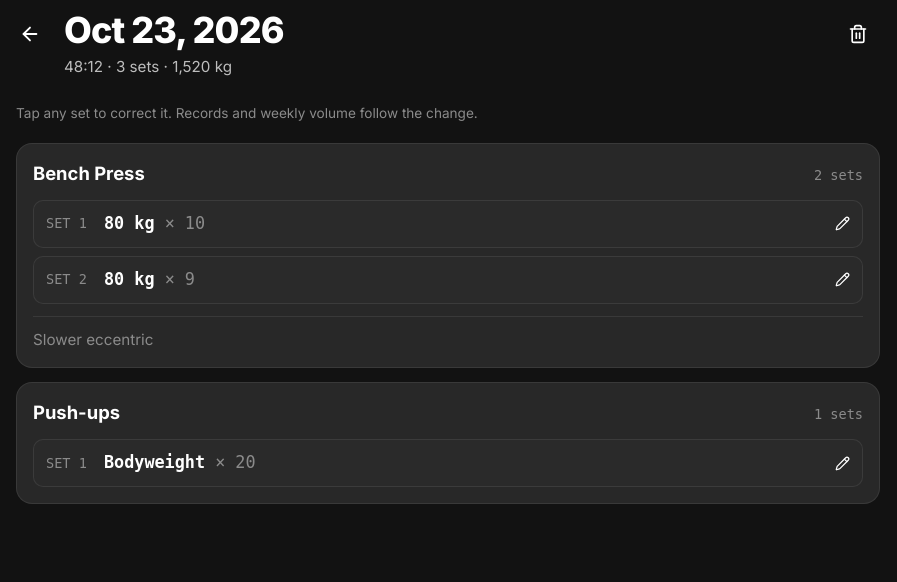
Test: MobileSessionDetail › edits one set in place and saves the new exercises
The width and height of the screenshot is (897, 582).
Click the button with aria-label "Edit set 1 of Bench Press" at (62, 223), box [33,200,863,248]
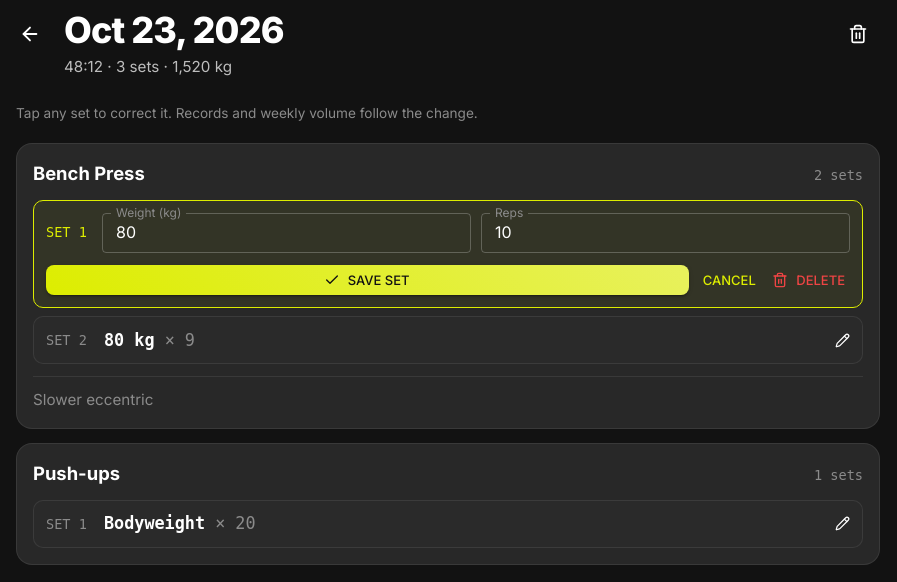
Replace the text in the field labelled "Weight (kg)" with "85" at (286, 233), box [102,213,471,253]
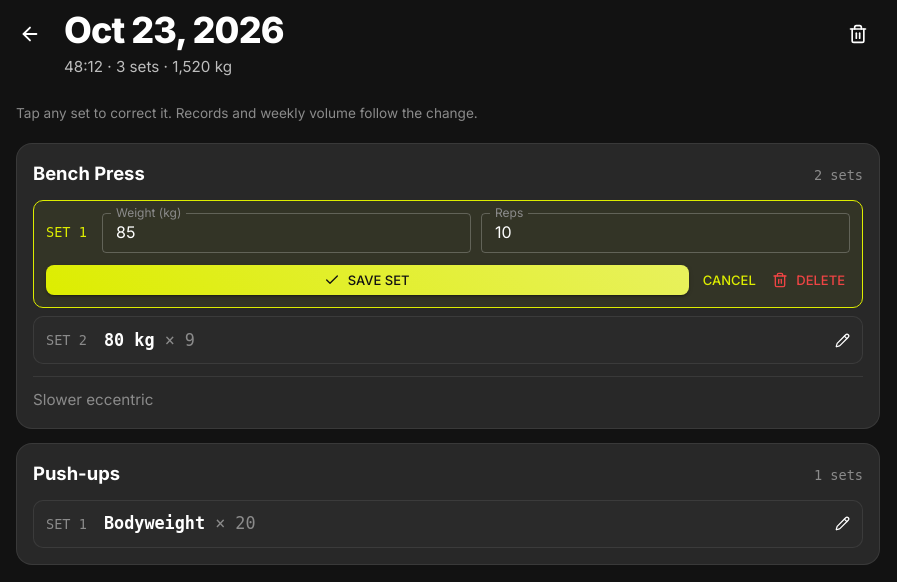
Click the button "Save set" at (368, 280), box [46,265,689,295]
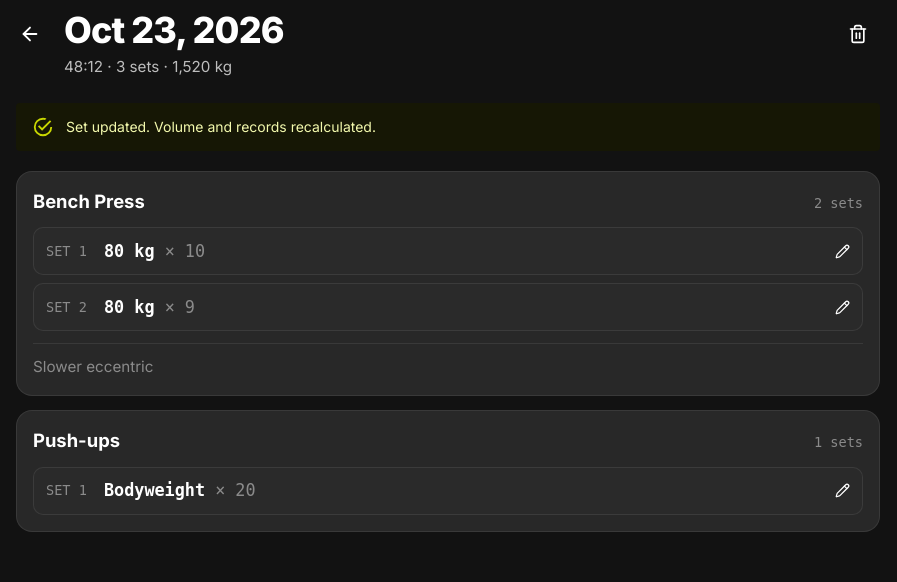
Expected: the text "Set updated. Volume and records recalculated." is shown, [66,118,376,135]
